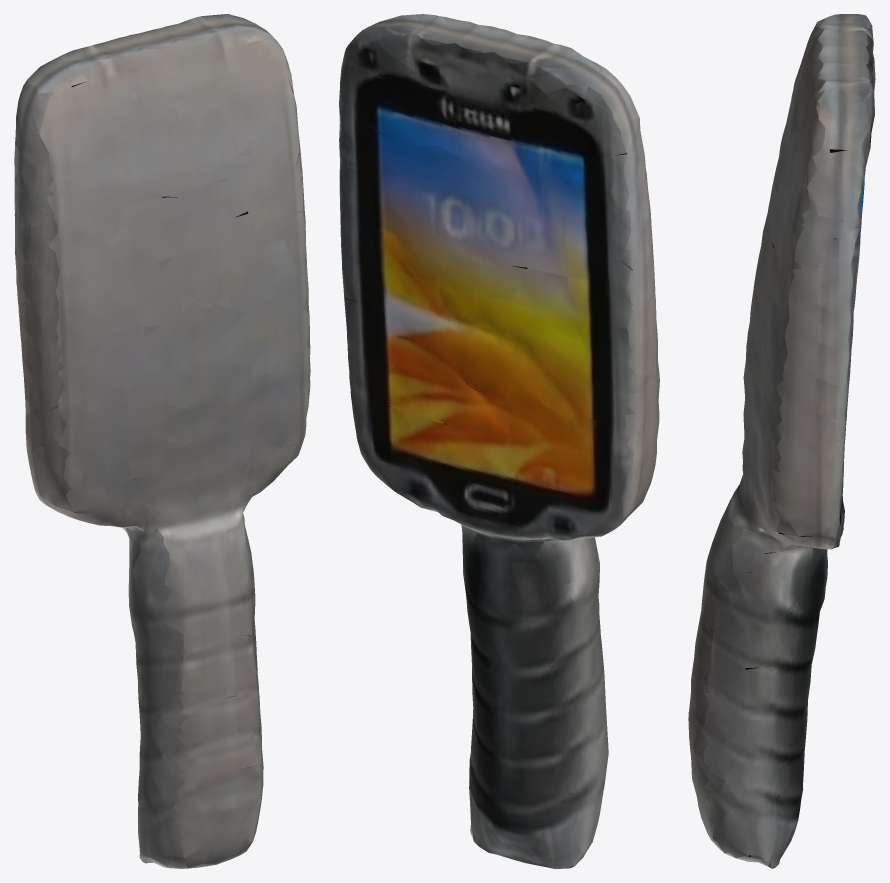
File: tc8300-editor.glb
The picture shows the model from 3 angles, left to right: view 1: azimuth 30°, elevation 25°; view 2: azimuth 150°, elevation 25°; view 3: azimuth 270°, elevation 25°; orthographic projection. The views are drawn at different scales.
Visible parts, largest first — view 1: world; view 2: world; view 3: world.
Boxes of the visible parts, box(x1,y1,x2,y2) form: world: box(14, 14, 310, 868); world: box(339, 14, 659, 868); world: box(688, 14, 875, 868).
Bounding box in the file's own units: 0.235 × 0.65 × 0.1384.
Materials: 1 (1 with a texture image).
